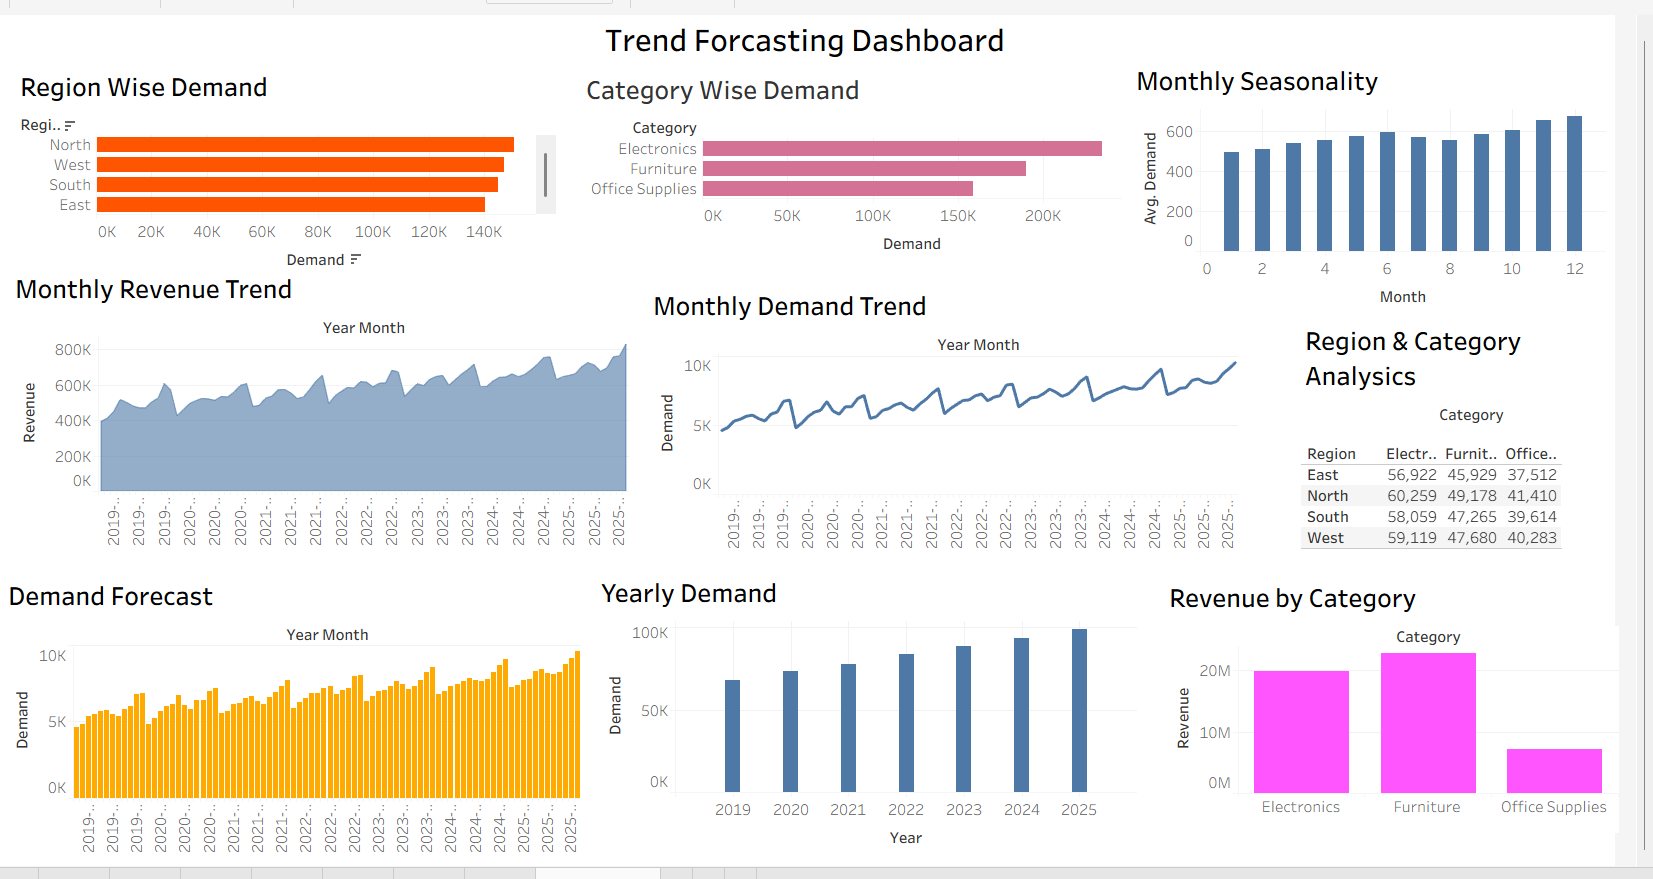

What the dashboard file says about the page in this screenshot:
{"tool":"tableau","page":{"name":"Dashboard 1","canvas":[1620,860],"ordinal":0},"visuals":[{"type":"title","box":[8,8,1604,49]},{"type":"worksheet","title":"Sheet 6","mark":"Bar","rows":["demand"],"cols":["month"],"box":[1137,53,474,255]},{"type":"worksheet","title":"Sheet 4","mark":"Automatic","rows":["region"],"cols":["demand"],"box":[21,59,540,212]},{"type":"worksheet","title":"Sheet 5","mark":"Automatic","rows":["category"],"cols":["demand"],"box":[587,62,540,204]},{"type":"worksheet","title":"Sheet 2","mark":"Area","rows":["revenue"],"cols":["year_month"],"box":[16,261,618,284]},{"type":"worksheet","title":"Sheet 1","mark":"Line","rows":["demand"],"cols":["year_month"],"box":[654,278,589,270]},{"type":"worksheet","title":"Sheet 9","mark":"Automatic","rows":["region"],"cols":["category"],"box":[1306,313,310,243]},{"type":"worksheet","title":"Sheet 3","mark":"Bar","rows":["demand"],"cols":["year"],"box":[602,565,540,284]},{"type":"worksheet","title":"Sheet 7","mark":"Automatic","rows":["demand"],"cols":["year_month"],"box":[9,568,577,284]},{"type":"worksheet","title":"Sheet 8","mark":"Automatic","rows":["revenue"],"cols":["category"],"box":[1170,570,454,257]}]}

Visuals, with their boxes in screenshot pixels (x1, y1, x2, y2), scaled from the page's 1620x860 canvas onto the 1653x879 screenshot:
title: 8, 8, 1645, 58
"Sheet 6" worksheet (Bar marks): 1160, 54, 1644, 315
"Sheet 4" worksheet: 21, 60, 572, 277
"Sheet 5" worksheet: 599, 63, 1150, 272
"Sheet 2" worksheet (Area marks): 16, 267, 647, 557
"Sheet 1" worksheet (Line marks): 667, 284, 1268, 560
"Sheet 9" worksheet: 1333, 320, 1649, 568
"Sheet 3" worksheet (Bar marks): 614, 577, 1165, 868
"Sheet 7" worksheet: 9, 581, 598, 871
"Sheet 8" worksheet: 1194, 583, 1652, 845
